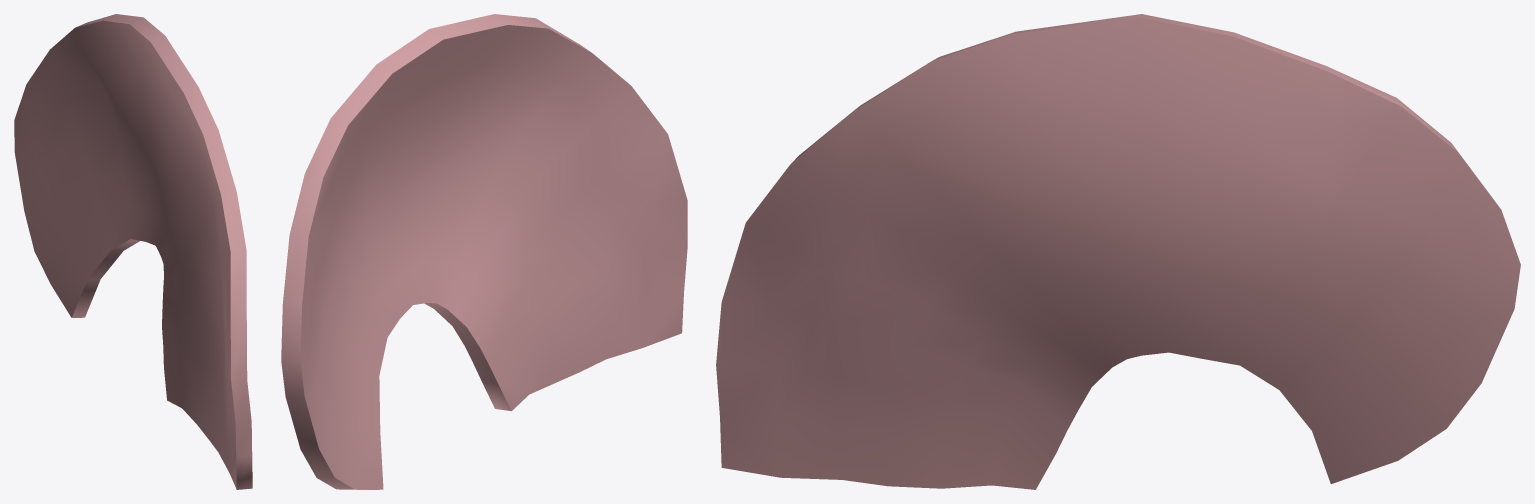
3 views of the same model, side by side, from view 1: azimuth 30°, elevation 25°; view 2: azimuth 150°, elevation 25°; view 3: azimuth 270°, elevation 25° (orthographic). The views are drawn at different scales.
Parts seen in each view (by area): view 1: ZA_f68afb7f63dd1b58; view 2: ZA_f68afb7f63dd1b58; view 3: ZA_f68afb7f63dd1b58.
Boxes of the visible parts, x1=… form: ZA_f68afb7f63dd1b58: x1=14, y1=14, x2=252, y2=489; ZA_f68afb7f63dd1b58: x1=281, y1=14, x2=687, y2=489; ZA_f68afb7f63dd1b58: x1=716, y1=14, x2=1520, y2=489.
Size of the model in its own units: 0.0226 by 0.0686 by 0.1019.
